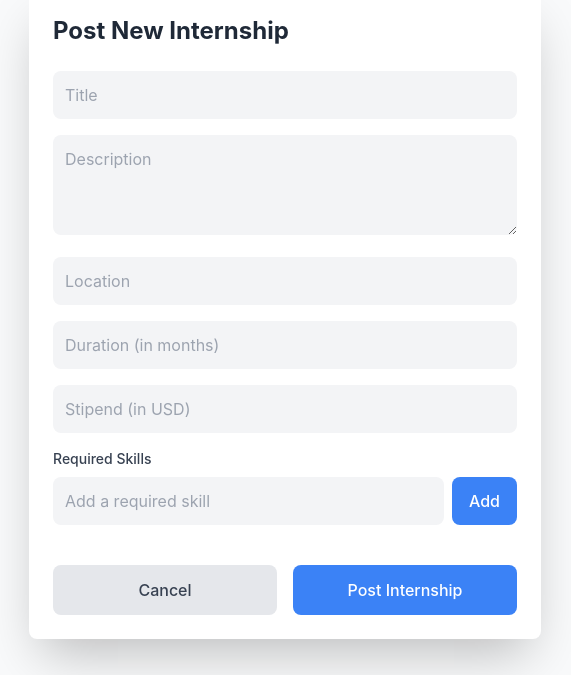
it: AddInternship › handles adding and removing skills
This screenshot has width=571, height=675.
// Add a skill
In the field with placeholder "Add a required skill": (248,501) top-left (53, 477), bottom-right (444, 525), type "React"
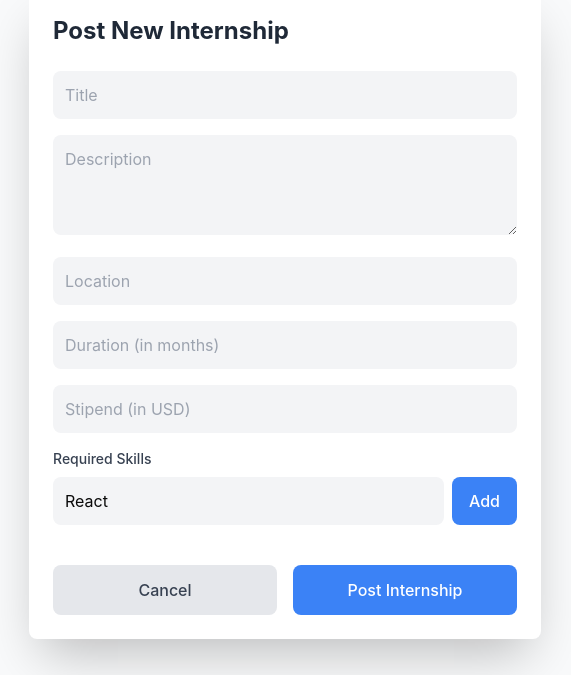
Click the button "Add": (484,501) top-left (452, 477), bottom-right (517, 525)
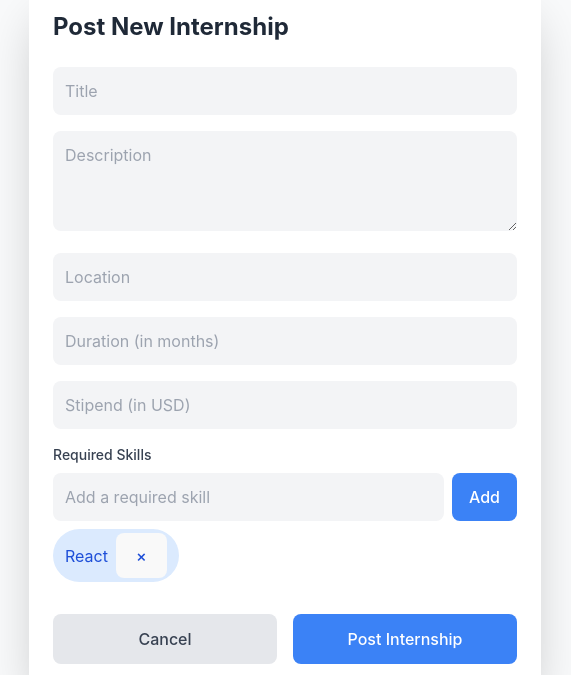
Expected: the text "React" is shown, top-left (65, 546), bottom-right (108, 566)
// Remove skill
Click the button "×": (141,556) top-left (116, 533), bottom-right (167, 578)
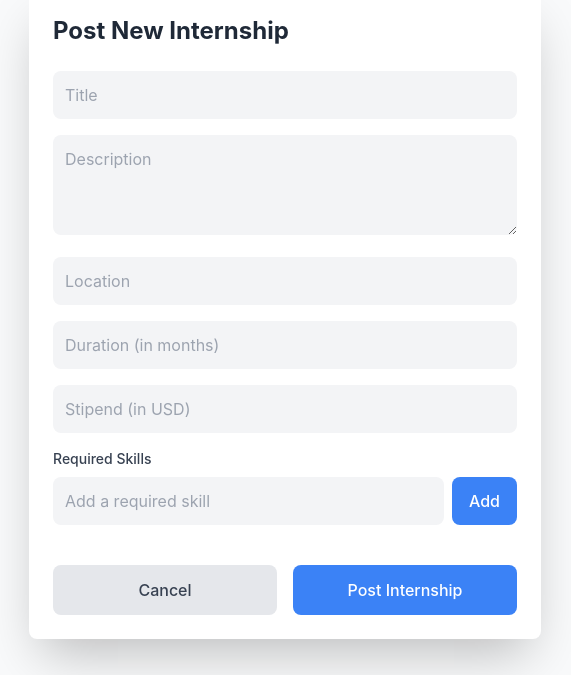
Expected: the text "React" is gone
